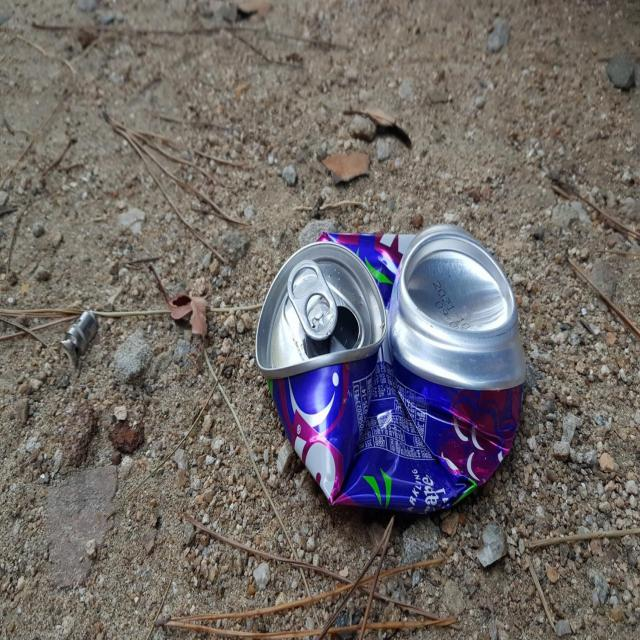can: (256, 223, 526, 513)
